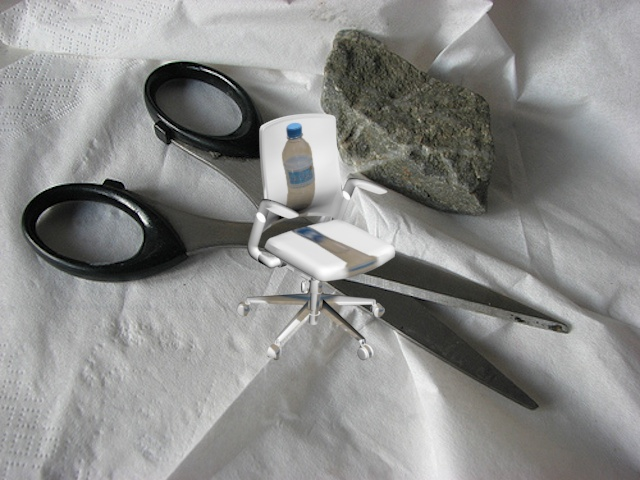desk_chair: (233, 112, 400, 368)
